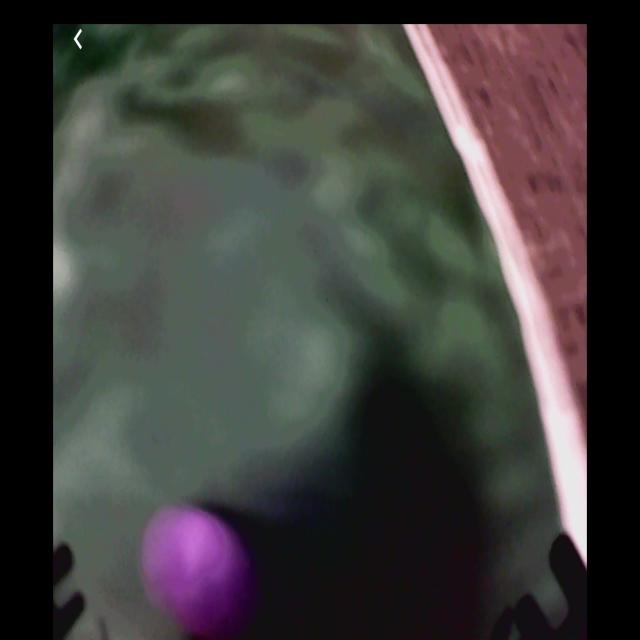ball: (160, 513, 246, 635)
